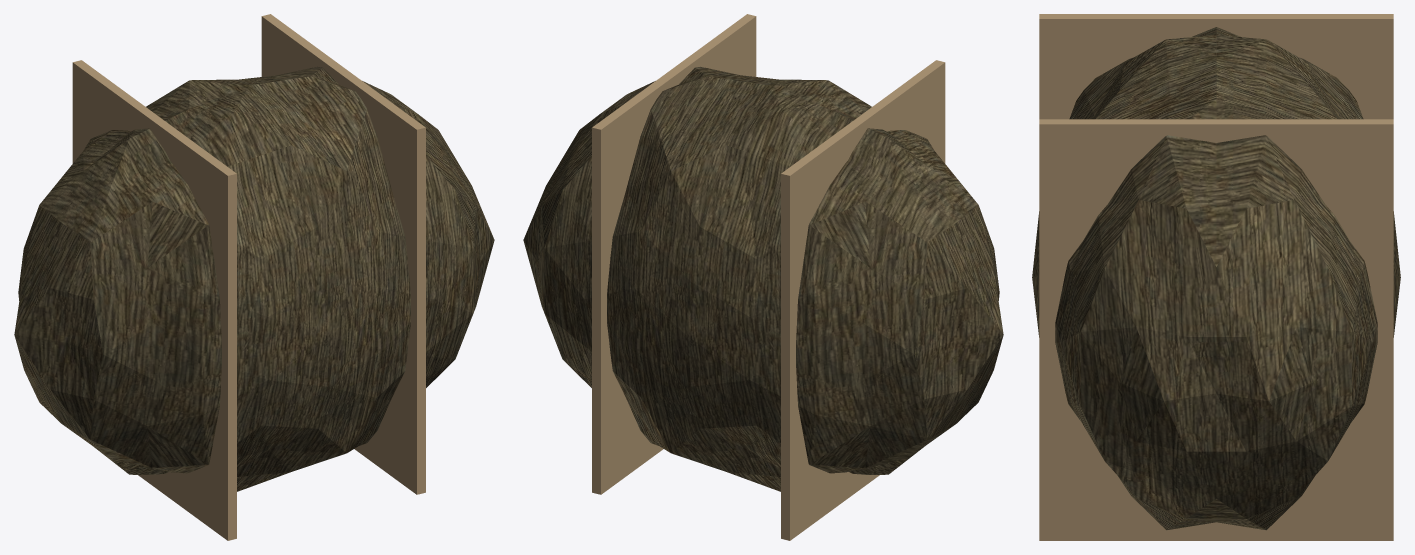
File: hay_bale.glb
The picture shows the model from 3 angles, left to right: view 1: azimuth 30°, elevation 25°; view 2: azimuth 150°, elevation 25°; view 3: azimuth 270°, elevation 25°; orthographic projection. The views are drawn at different scales.
Visible parts, largest first — view 1: HayBale; view 2: HayBale; view 3: HayBale.
Part boxes in pixels (left/top/right/bottom): HayBale: left=14, top=14, right=494, bottom=540; HayBale: left=523, top=14, right=1003, bottom=540; HayBale: left=1032, top=14, right=1400, bottom=540.
Size of the model in its own units: 1.26 by 1.01 by 0.77.
Materials: 2 (1 with a texture image).
